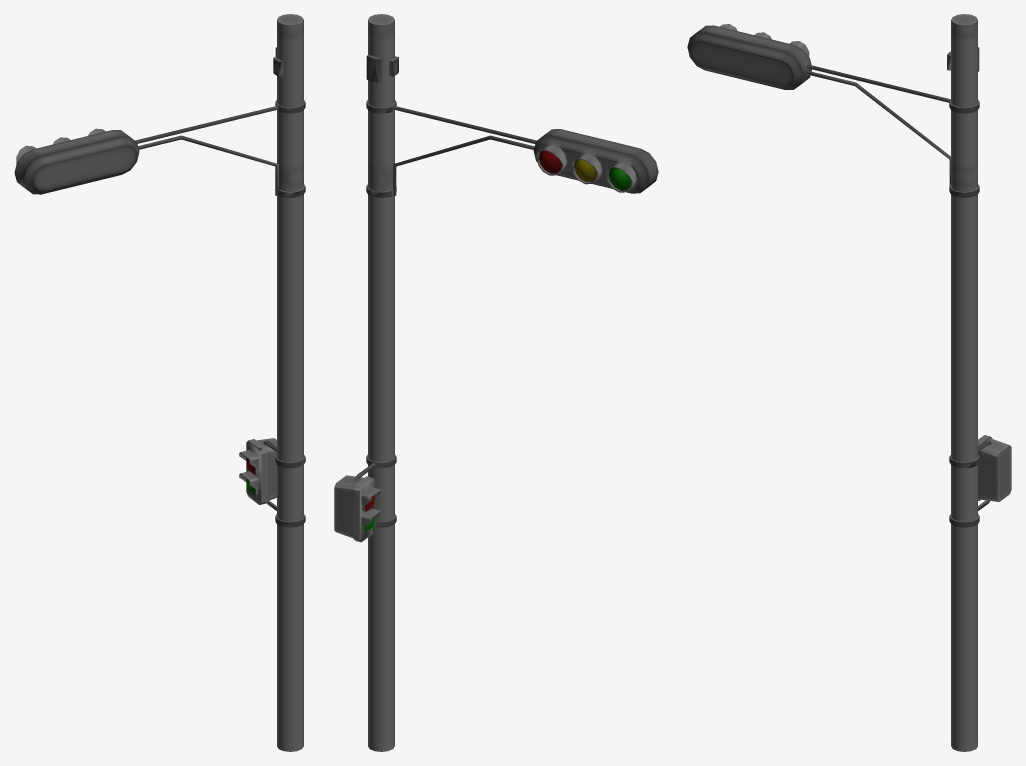
File: TrafficLight.gltf
3 renders of one model, left to right at view 1: azimuth 30°, elevation 25°; view 2: azimuth 150°, elevation 25°; view 3: azimuth 330°, elevation 25°, orthographic.
Parts seen in each view (by area): view 1: Traffic_Light_Model.002, Traffic_Light_Model.001, Traffic_Light_Model.003; view 2: Traffic_Light_Model.002, Traffic_Light_Model.001, Traffic_Light_Model.003; view 3: Traffic_Light_Model.002, Traffic_Light_Model.001, Traffic_Light_Model.003.
Part boxes in pixels (x1,y1,x2,y2): Traffic_Light_Model.002: (273, 14, 303, 751); Traffic_Light_Model.001: (14, 100, 305, 197); Traffic_Light_Model.003: (239, 438, 305, 527); Traffic_Light_Model.002: (366, 14, 398, 751); Traffic_Light_Model.001: (366, 100, 658, 197); Traffic_Light_Model.003: (334, 454, 396, 542); Traffic_Light_Model.002: (947, 14, 979, 751); Traffic_Light_Model.001: (687, 24, 979, 197); Traffic_Light_Model.003: (949, 435, 1011, 527).
Size of the model in its own units: 2.53 by 6.14 by 0.642.
1 material, 1 textured.
